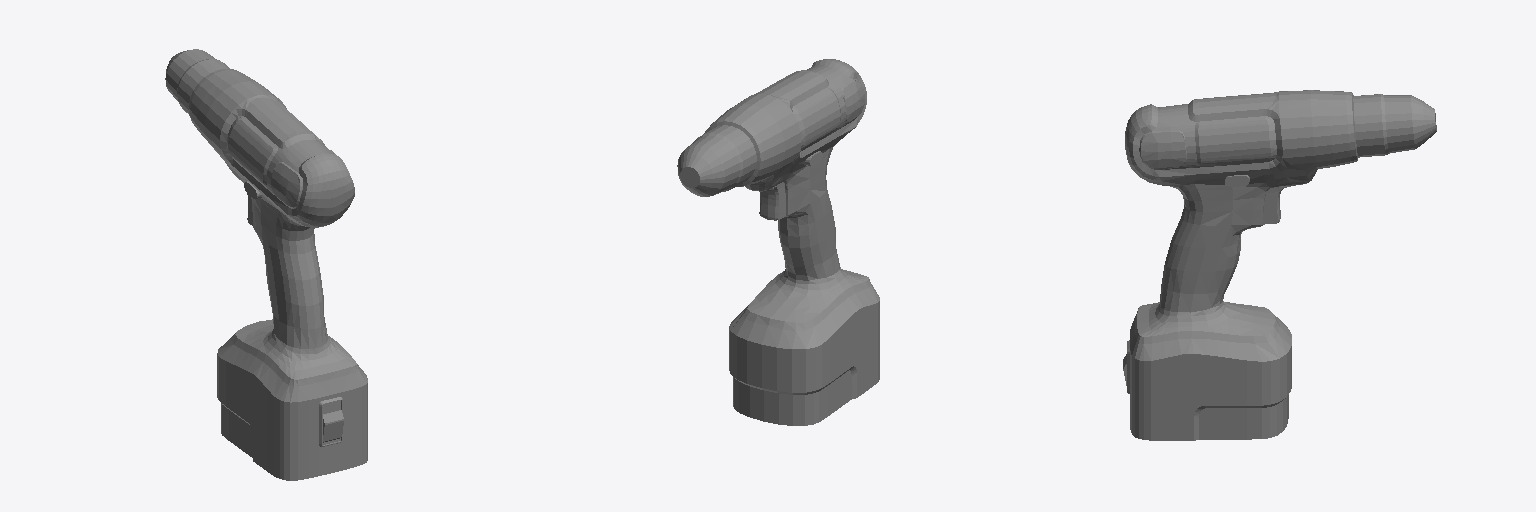
The model's file is drill.obj.
3 renders of one model, left to right at view 1: azimuth 30°, elevation 25°; view 2: azimuth 150°, elevation 25°; view 3: azimuth 270°, elevation 25°, orthographic.
Parts seen in each view (by area): view 1: Drill_DrillMesh; view 2: Drill_DrillMesh; view 3: Drill_DrillMesh.
Boxes of the visible parts, x1=… form: Drill_DrillMesh: x1=165, y1=49, x2=367, y2=480; Drill_DrillMesh: x1=677, y1=59, x2=879, y2=425; Drill_DrillMesh: x1=1123, y1=90, x2=1436, y2=440.
Size of the model in its own units: 0.0756 by 0.2549 by 0.2229.